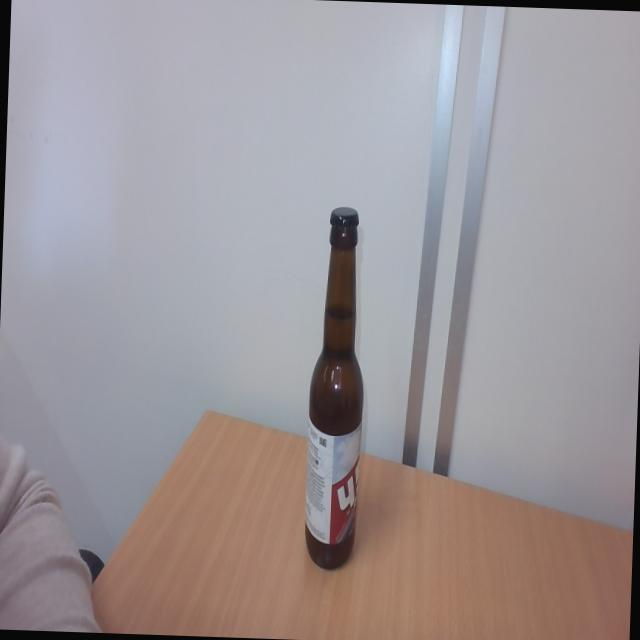Bottle: (302, 234, 370, 572)
Cap: (327, 205, 361, 234)
Label: (301, 422, 364, 544)
